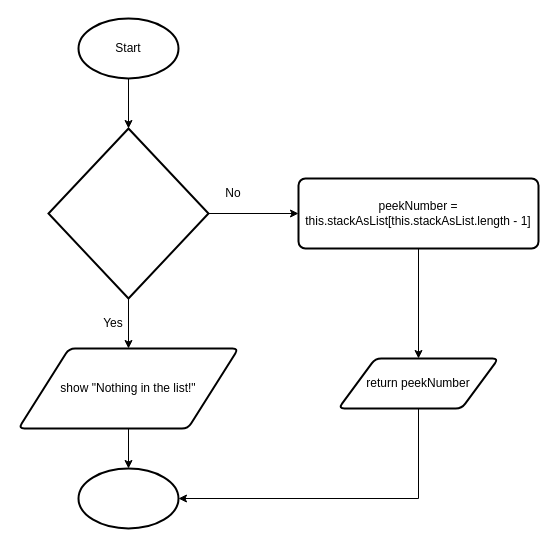
This 556x546 diagram has some shape labels left out. Each missing label, with the centre of its shape:
"if (this.stackAsList === undefined)" belongs at point 128,213.
"Stop" belongs at point 128,498.
